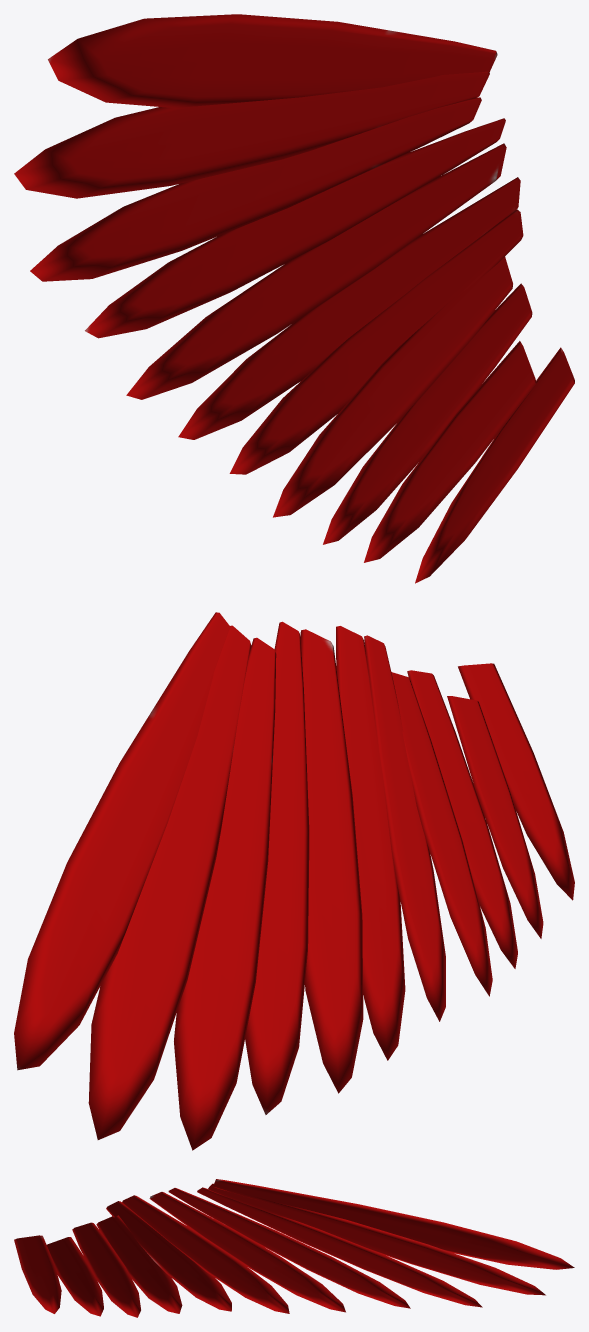
File: relojAlaIzqPajaro.obj
3 views of the same model, one above another, from view 1: azimuth 30°, elevation 25°; view 2: azimuth 150°, elevation 25°; view 3: azimuth 270°, elevation 25° (orthographic). The views are drawn at different scales.
Visible parts, largest first — view 1: polySurface95; view 2: polySurface95; view 3: polySurface95.
Boxes of the visible parts, x1,y1,x2,y2 form: polySurface95: [14, 14, 574, 583]; polySurface95: [14, 612, 574, 1150]; polySurface95: [14, 1179, 574, 1317].
Size of the model in its own units: 2.77 by 3.86 by 9.62.
1 material, 1 textured.
